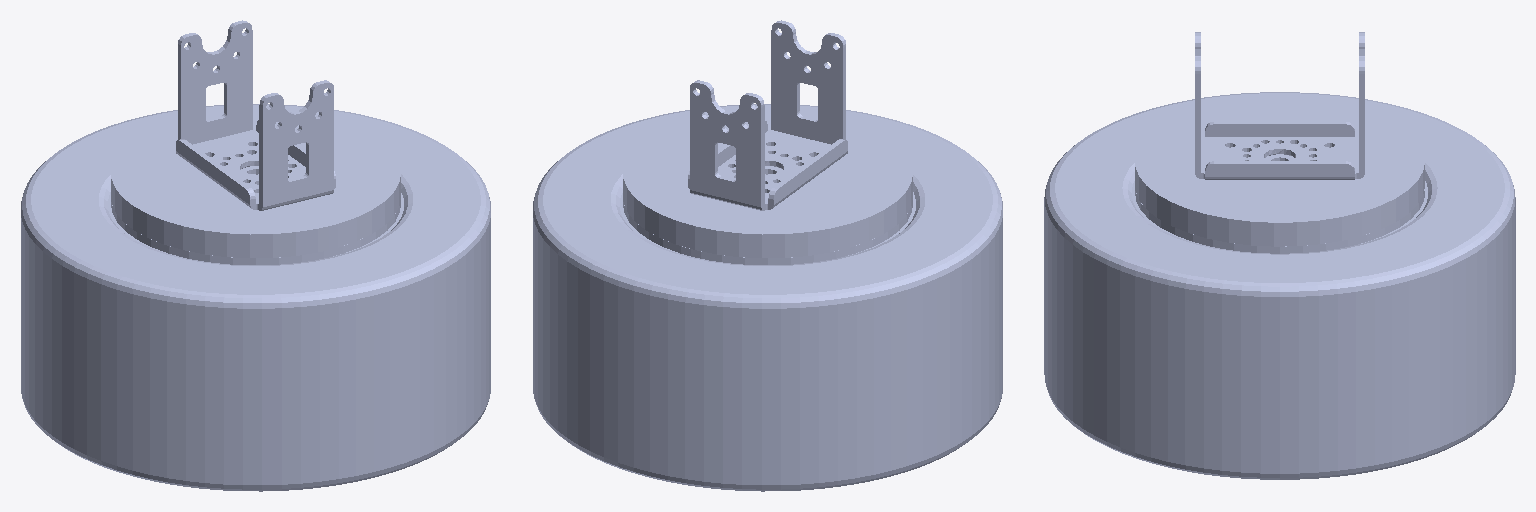
The robot description file, URDF, robot "Link1^Full Arm Assembly_w_wrist":
<robot
  name="Link1^Full Arm Assembly_w_wrist">
  <link
    name="L1">
    <inertial>
      <origin
        xyz="-1.11022302462516E-16 -1.38777878078145E-16 0.0300379130332605"
        rpy="0 0 0" />
      <mass
        value="0.354115970550142" />
      <inertia
        ixx="4.65925979029446E-05"
        ixy="2.68006518474121E-22"
        ixz="-3.15388932838673E-20"
        iyy="4.65925979029446E-05"
        iyz="-4.3765538483364E-19"
        izz="7.07684520737569E-07" />
    </inertial>
    <visual>
      <origin
        xyz="0 0 0"
        rpy="0 0 0" />
      <geometry>
        <mesh
          filename="package://Link1^Full Arm Assembly_w_wrist/meshes/L1.STL" />
      </geometry>
      <material
        name="">
        <color
          rgba="0.792156862745098 0.819607843137255 0.933333333333333 1" />
      </material>
    </visual>
    <collision>
      <origin
        xyz="0 0 0"
        rpy="0 0 0" />
      <geometry>
        <mesh
          filename="package://Link1^Full Arm Assembly_w_wrist/meshes/L1.STL" />
      </geometry>
    </collision>
  </link>
</robot>

--- What the picture shows (computed from the rendered views, not written in the file) ---
Views: 3 orthographic renders of the robot side by side, from view 1: azimuth 30°, elevation 25°; view 2: azimuth 150°, elevation 25°; view 3: azimuth 270°, elevation 25°.
Model Link1^Full Arm Assembly_w_wrist with 1 links and 0 joints (none), rooted at L1, posed every joint at zero.
Visible links, largest first — view 1: L1; view 2: L1; view 3: L1.
Link boxes in pixels (x1=…): L1: x1=21, y1=20, x2=490, y2=491; L1: x1=533, y1=20, x2=1002, y2=491; L1: x1=1044, y1=32, x2=1515, y2=479.
Bounding box of the posed robot: 0.1136 × 0.1136 × 0.0931 m (x, y, z).
1 mesh visuals loaded from 1 distinct referenced files (1 binary STL).